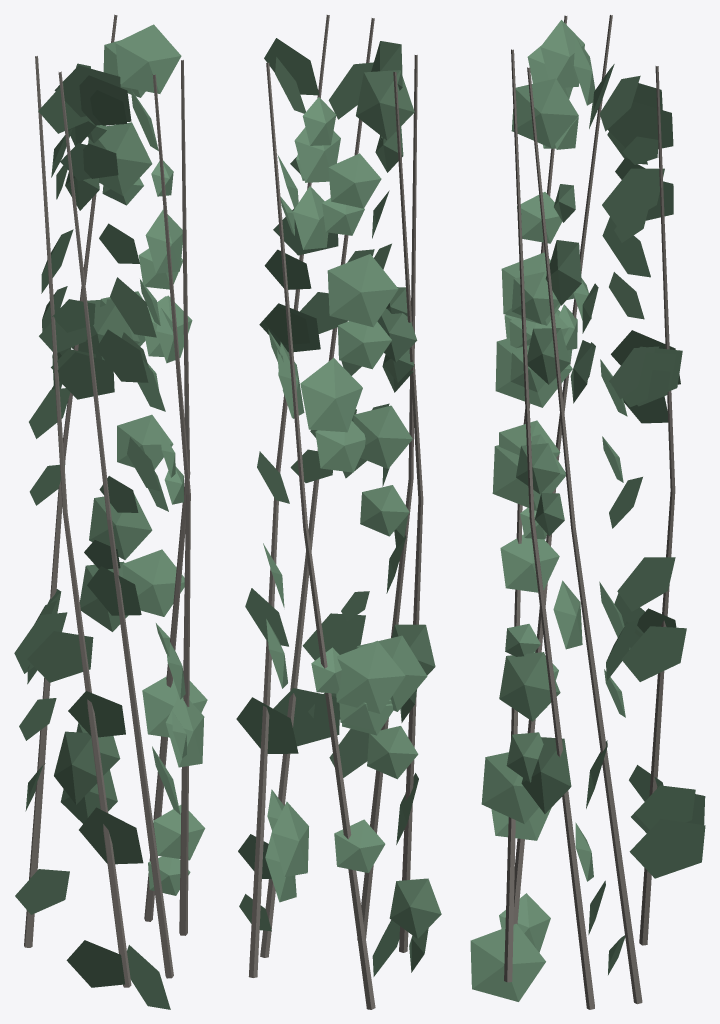
The model's file is dense-temperate-forest-flora-ivy-trunk-sleeve-0c69f61e__28373.glb.
3 renders of one model, left to right at view 1: azimuth 30°, elevation 25°; view 2: azimuth 150°, elevation 25°; view 3: azimuth 270°, elevation 25°, orthographic. The views are drawn at different scales.
Parts seen in each view (by area): view 1: ivy-trunk-sleeve; view 2: ivy-trunk-sleeve; view 3: ivy-trunk-sleeve.
Part boxes in pixels (box(x1,y1,x2,y2)): ivy-trunk-sleeve: box(14, 14, 207, 1009); ivy-trunk-sleeve: box(236, 15, 441, 1009); ivy-trunk-sleeve: box(470, 15, 705, 1009).
Bounding box in the file's own units: 0.7056 × 3.21 × 0.7138.
